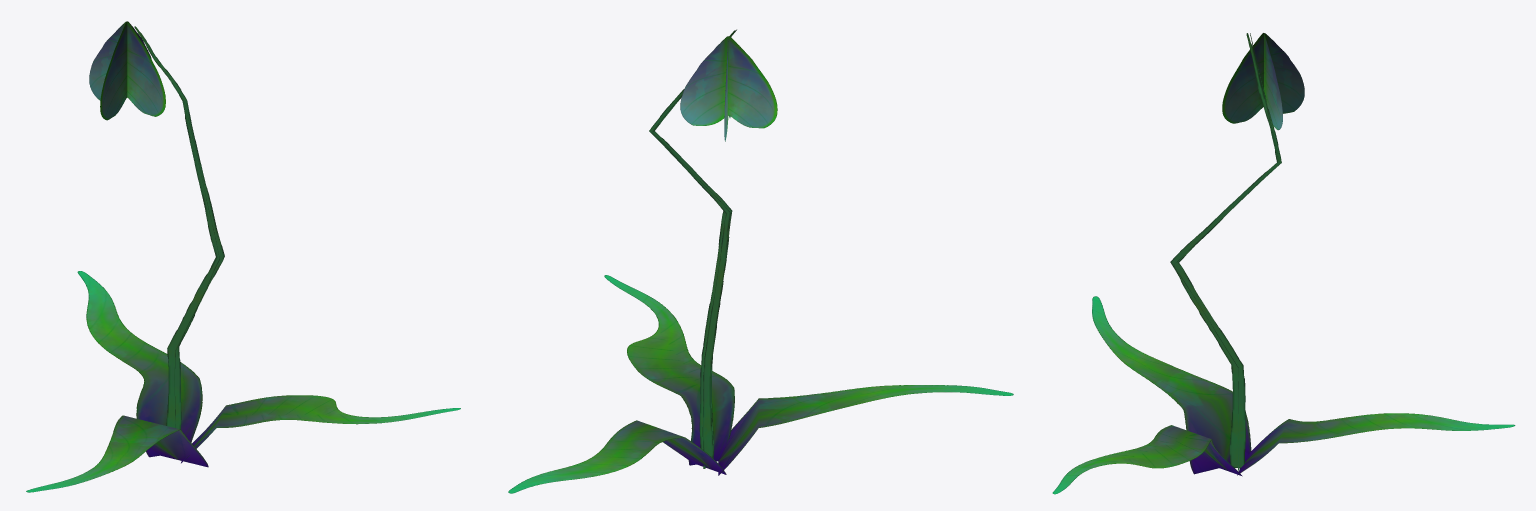
Rendered from S_Carnivore.fbx.
The picture shows the model from 3 angles, left to right: view 1: azimuth 30°, elevation 25°; view 2: azimuth 150°, elevation 25°; view 3: azimuth 270°, elevation 25°; orthographic projection. The views are drawn at different scales.
Visible parts, largest first — view 1: S_foliage_carnivore; view 2: S_foliage_carnivore; view 3: S_foliage_carnivore.
Part boxes in pixels (<box>): S_foliage_carnivore: <box>26,21,460,492</box>; S_foliage_carnivore: <box>508,29,1013,493</box>; S_foliage_carnivore: <box>1052,33,1515,494</box>.
Size of the model in its own units: 72.72 by 71.55 by 72.52.
